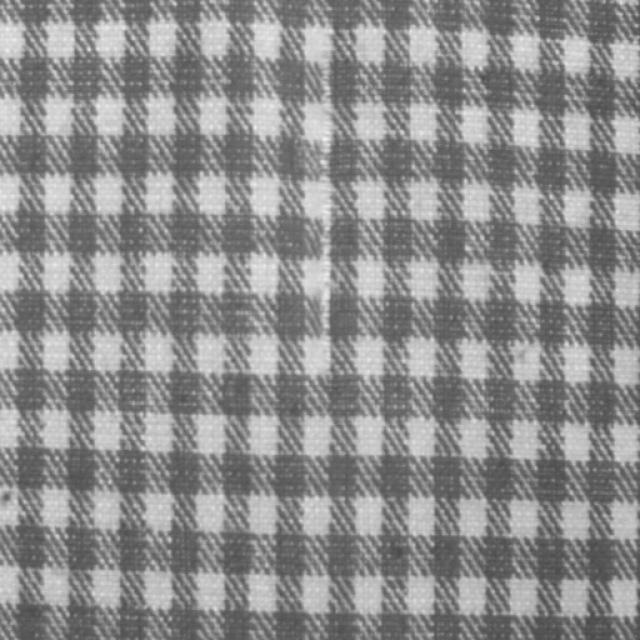Thread-Defect: (321, 32, 338, 344)
